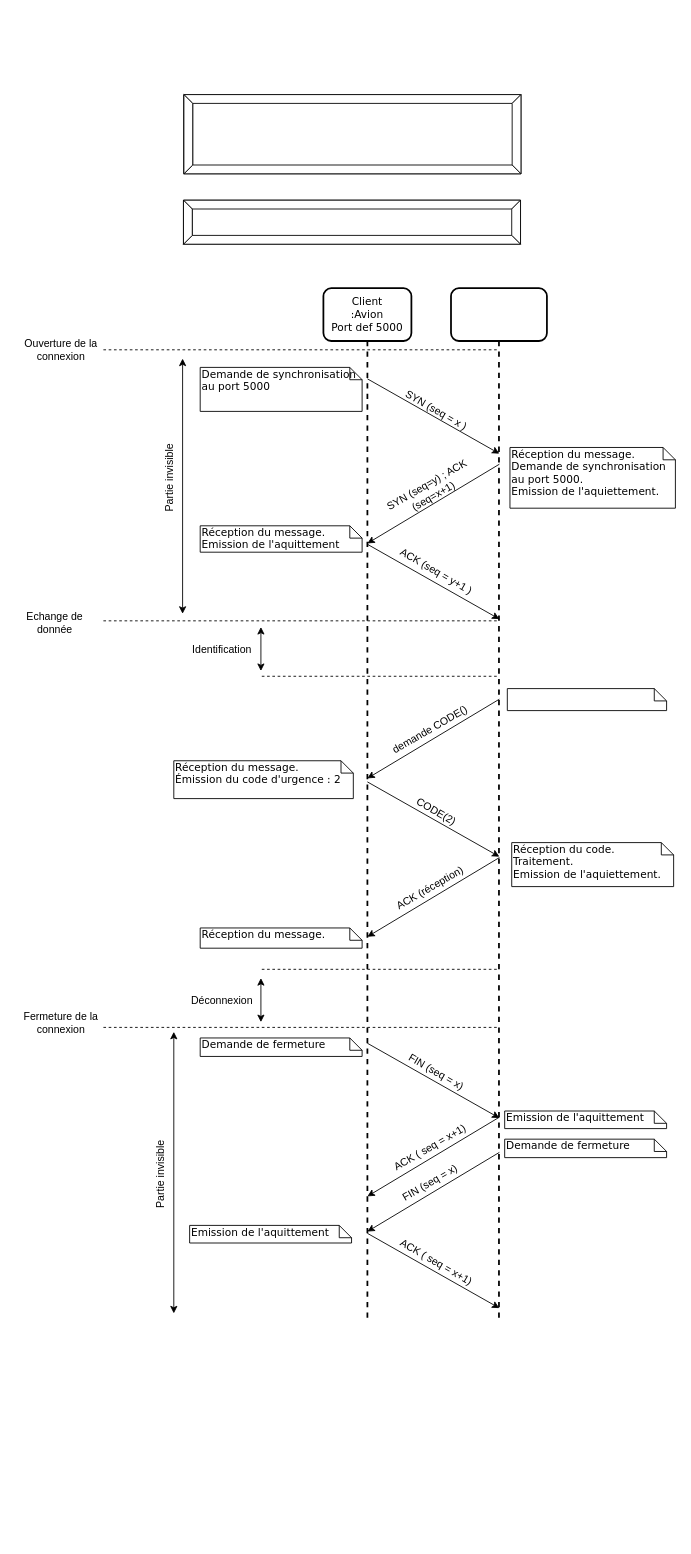
Image size: 691x1554. Some labels were removed from this diagram. Each missing label, with the box of its shape:
Communication TCP Avion - Tour de controle Groupe : AEROW version : finale: (183, 94, 521, 174)
Demande de code: (506, 688, 667, 711)
Serveur :tourDeControle Port def 5000: (450, 287, 547, 1318)
État d'urgence: (183, 199, 521, 244)
